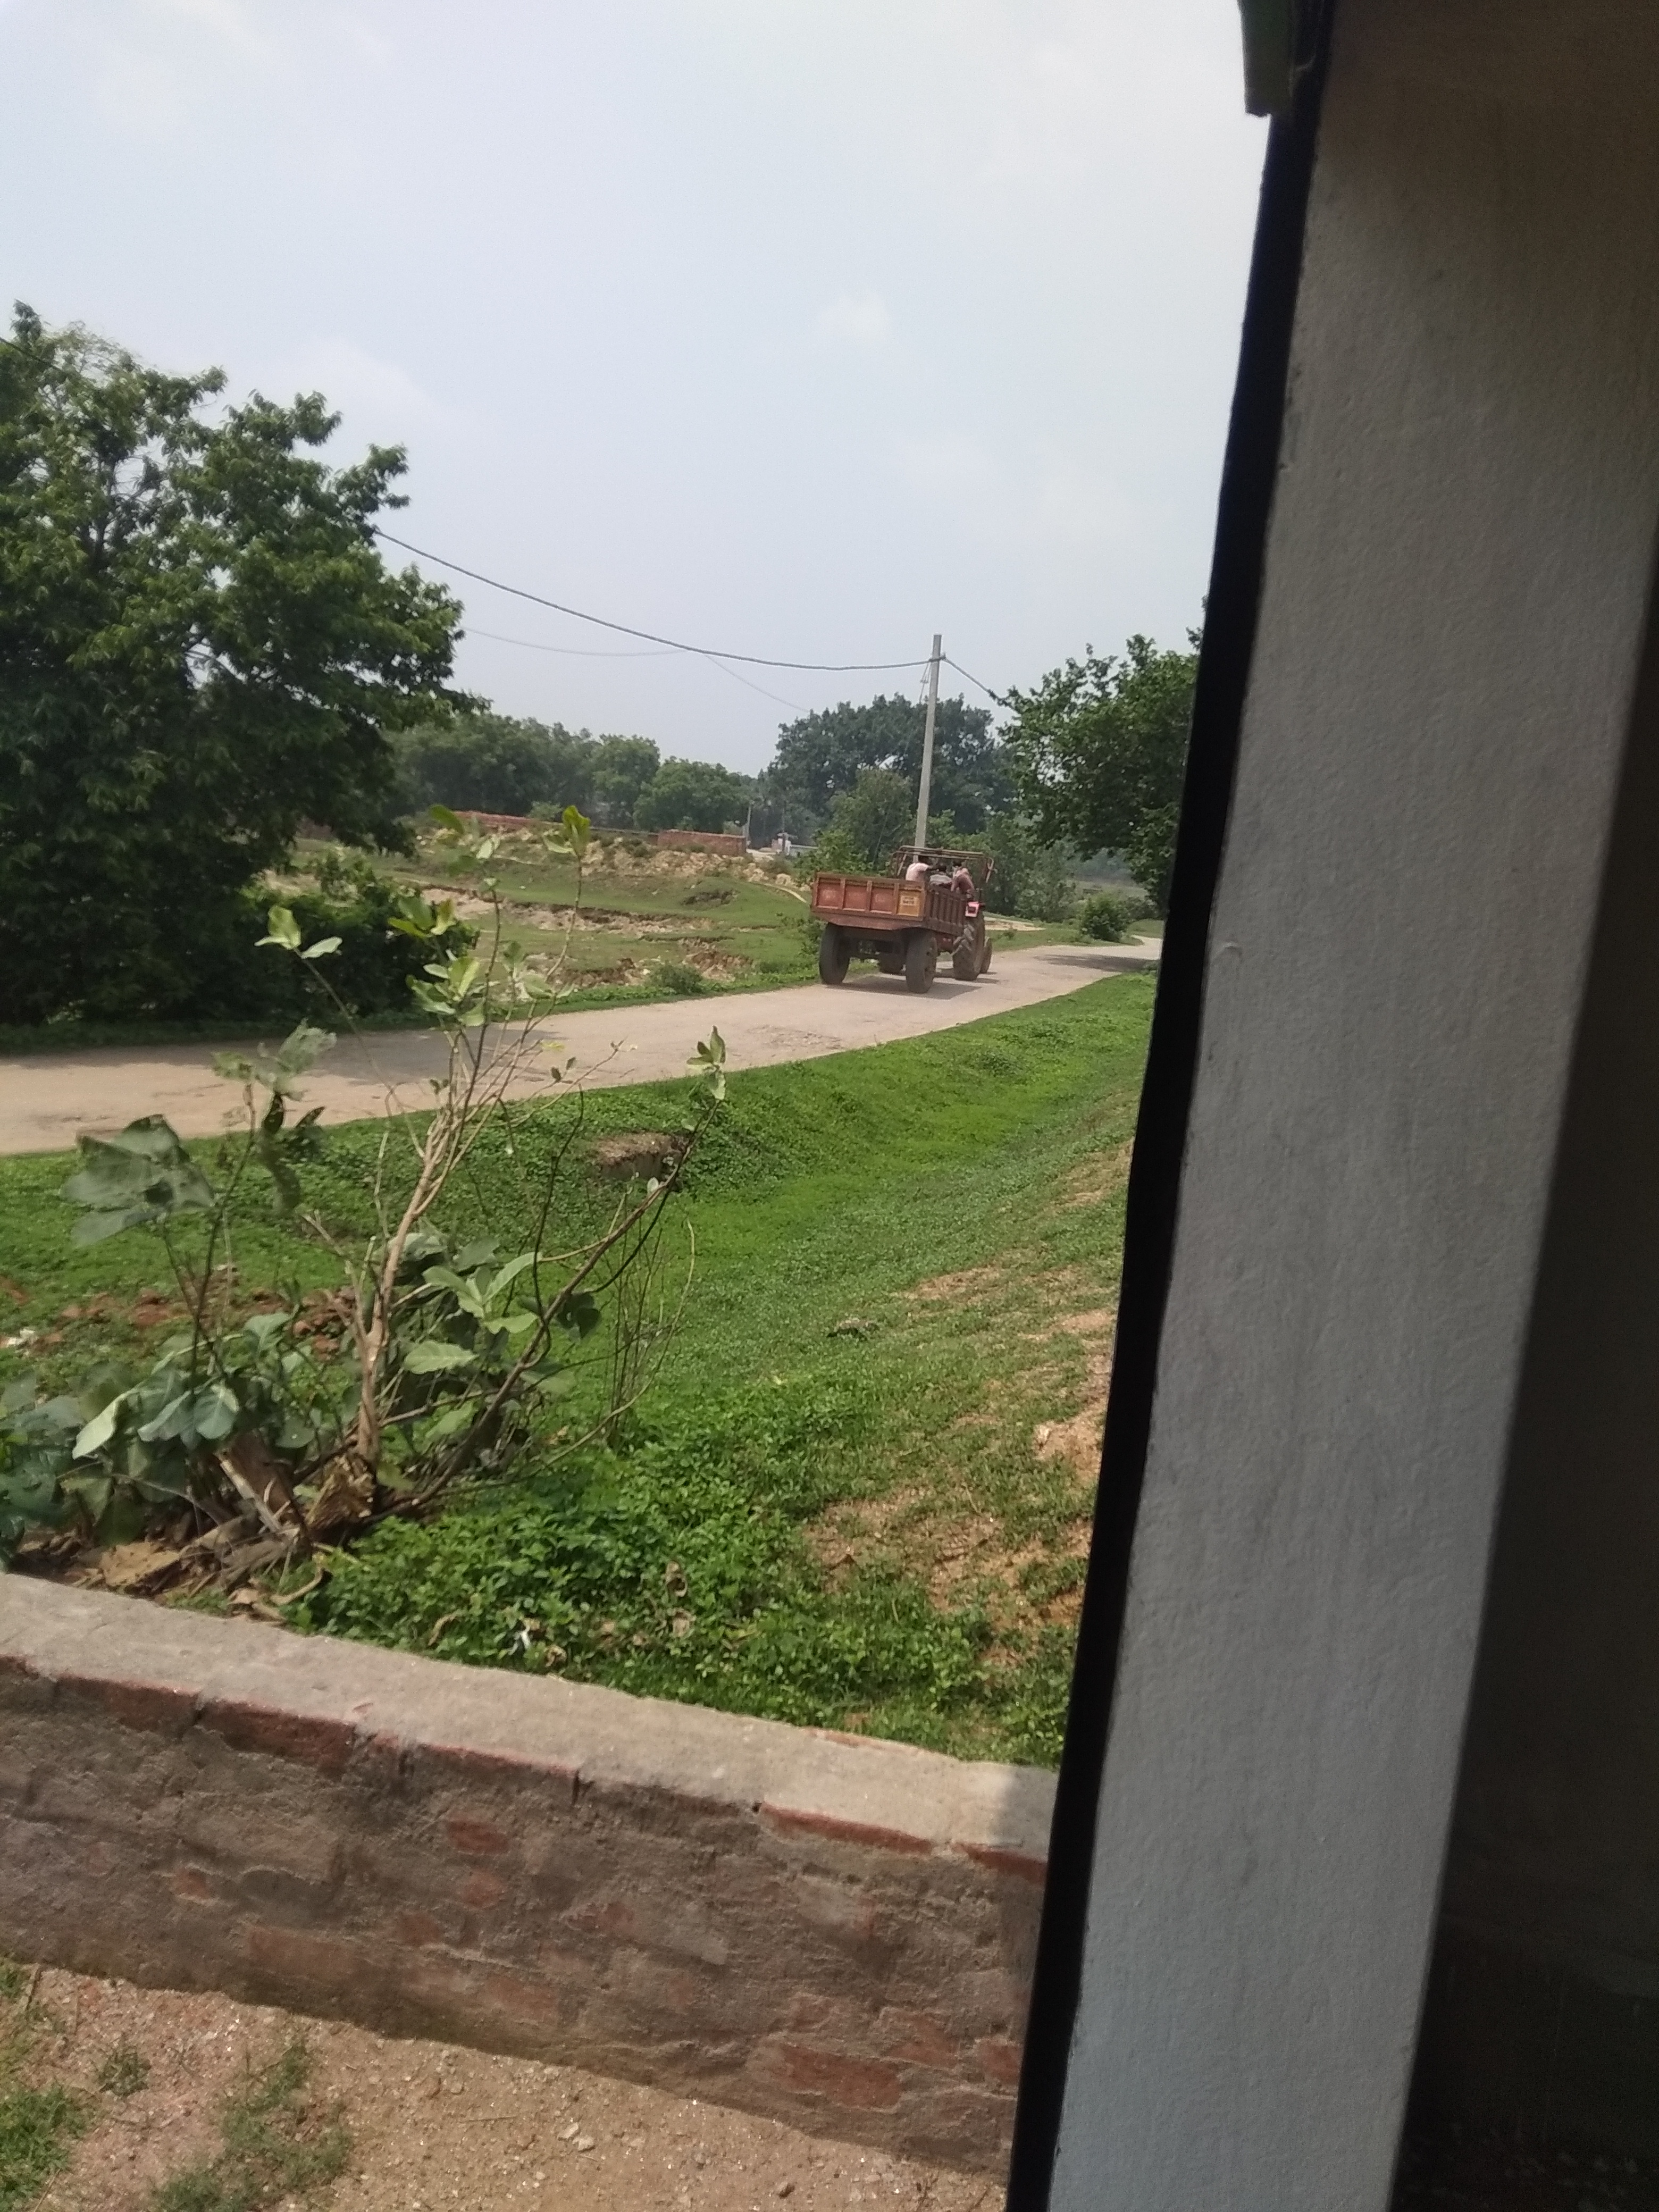tractor: (807, 843, 993, 995)
